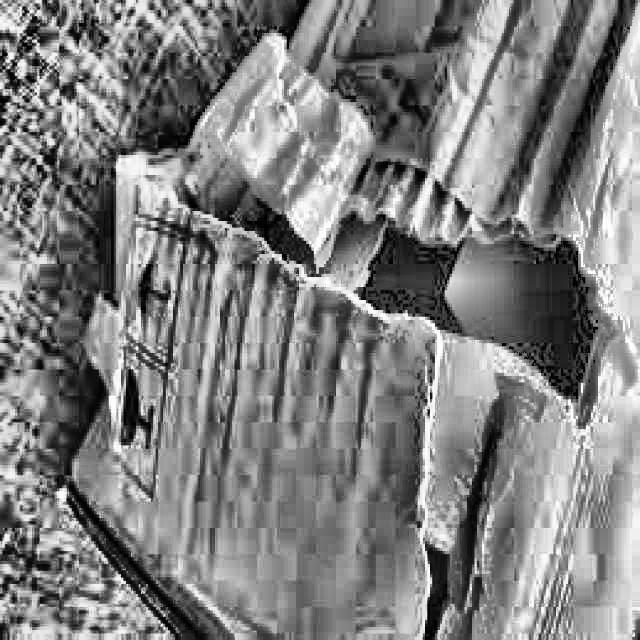box: (43, 0, 639, 639)
hole: (165, 123, 609, 415)
